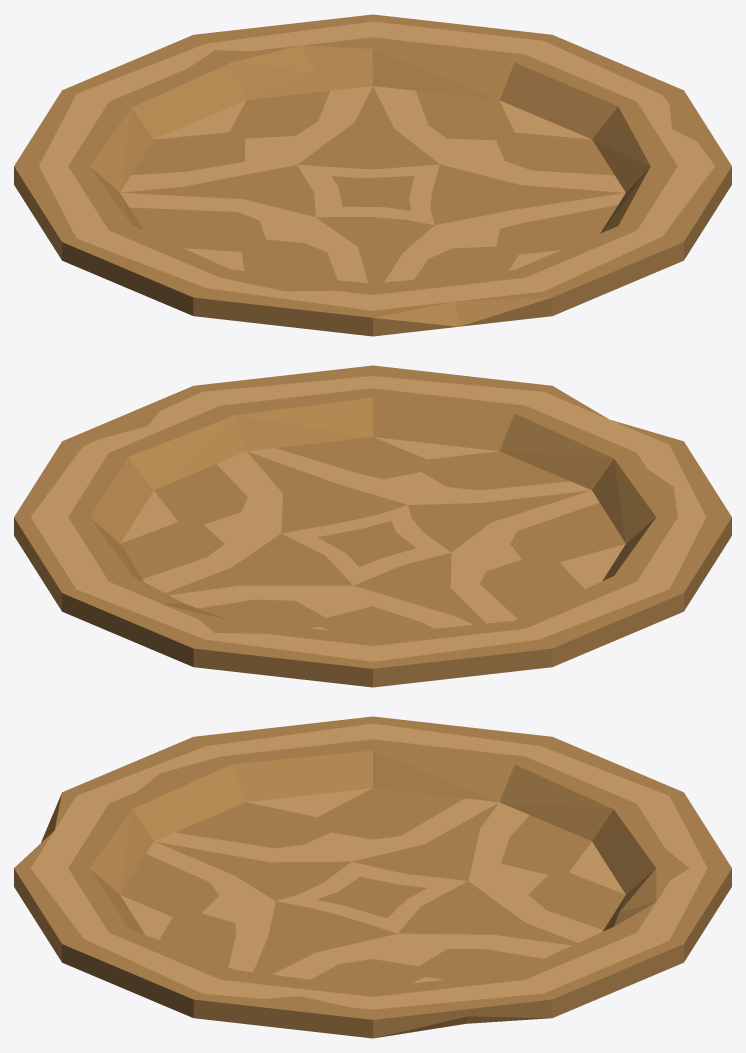
Rendered from SM_Prop_Treasure_Plate_01.fbx.
3 views of the same model, one above another, from view 1: azimuth 30°, elevation 25°; view 2: azimuth 150°, elevation 25°; view 3: azimuth 270°, elevation 25° (orthographic).
Parts seen in each view (by area): view 1: SM_Prop_Treasure_Plate_01; view 2: SM_Prop_Treasure_Plate_01; view 3: SM_Prop_Treasure_Plate_01.
Boxes of the visible parts, bbox=[...] form: SM_Prop_Treasure_Plate_01: bbox=[14, 14, 731, 336]; SM_Prop_Treasure_Plate_01: bbox=[14, 365, 731, 687]; SM_Prop_Treasure_Plate_01: bbox=[14, 716, 731, 1038].
Bounding box in the file's own units: 43.15 × 3.82 × 43.15.
